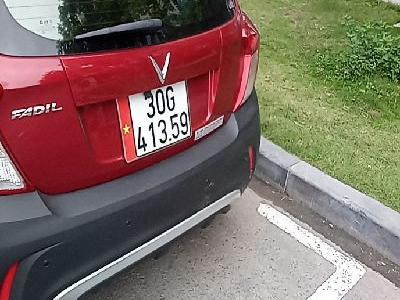car: (116, 80, 192, 163)
